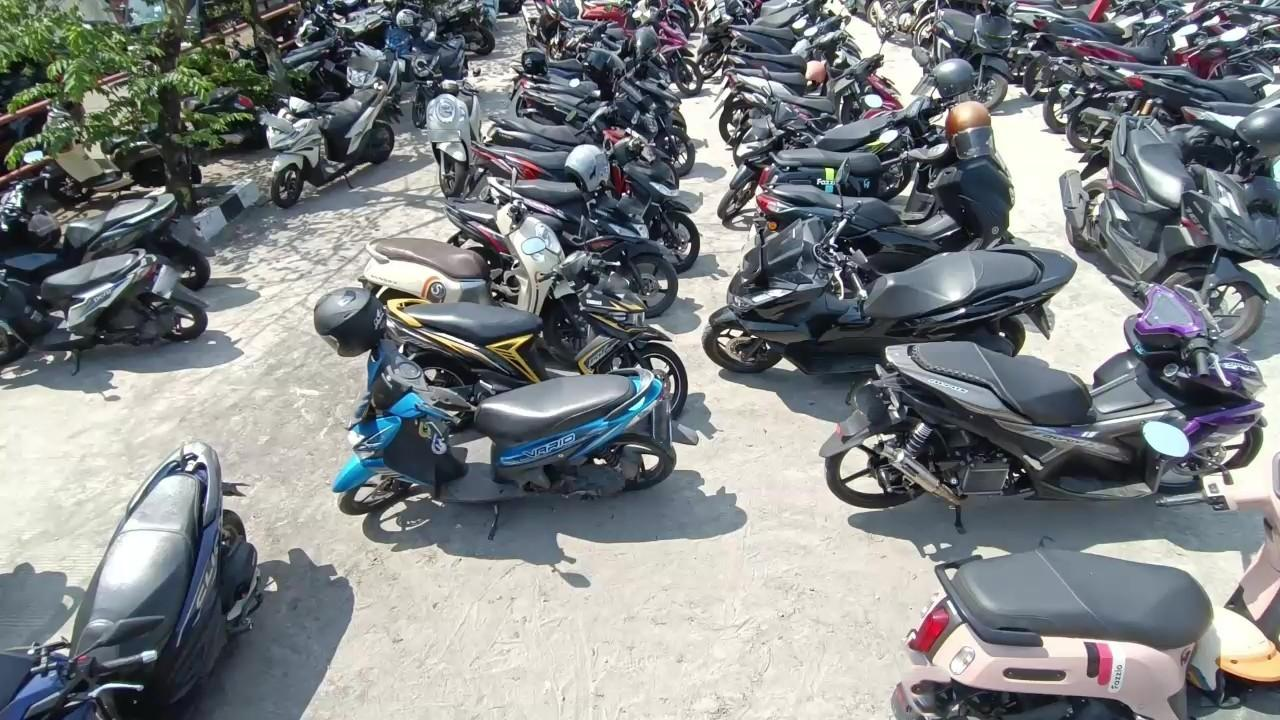motorcycle: (811, 270, 1274, 510), (313, 277, 723, 545), (890, 519, 1280, 720), (6, 433, 274, 720), (704, 216, 1079, 380), (1059, 104, 1274, 336), (1045, 119, 1263, 329), (754, 100, 1019, 266), (349, 189, 600, 354), (386, 279, 694, 412), (434, 156, 677, 306), (486, 33, 683, 188), (486, 140, 697, 272), (0, 256, 227, 372), (0, 169, 216, 289), (253, 73, 414, 212), (714, 39, 870, 177), (1035, 27, 1212, 146), (459, 117, 596, 218), (83, 95, 224, 191), (906, 2, 1025, 111), (20, 105, 143, 210), (1004, 1, 1183, 72), (716, 100, 799, 225), (1174, 89, 1280, 183), (274, 7, 376, 101), (388, 13, 470, 127), (724, 8, 837, 90), (1163, 3, 1280, 81), (759, 145, 946, 188), (1112, 114, 1193, 212), (0, 247, 63, 372), (607, 7, 688, 100), (169, 81, 270, 154), (532, 0, 636, 68), (710, 51, 782, 146), (256, 95, 325, 173), (0, 174, 64, 253), (692, 4, 751, 88), (423, 0, 497, 57), (863, 1, 936, 45), (324, 2, 394, 47), (289, 2, 351, 50), (520, 1, 567, 55), (648, 3, 695, 56), (228, 31, 275, 77), (752, 0, 815, 29), (577, 0, 637, 28)
